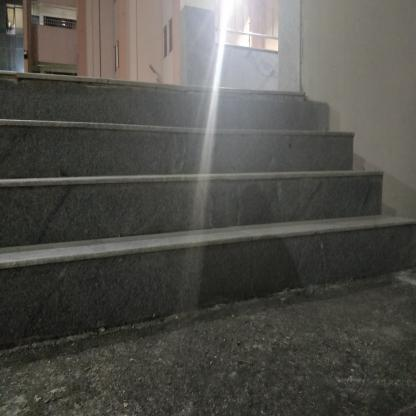stairs: (6, 71, 317, 315)
